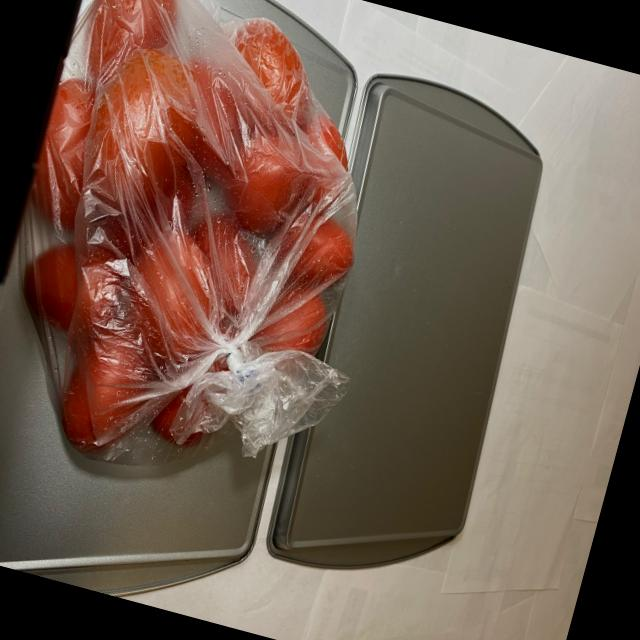tomato: (0, 0, 410, 493)
